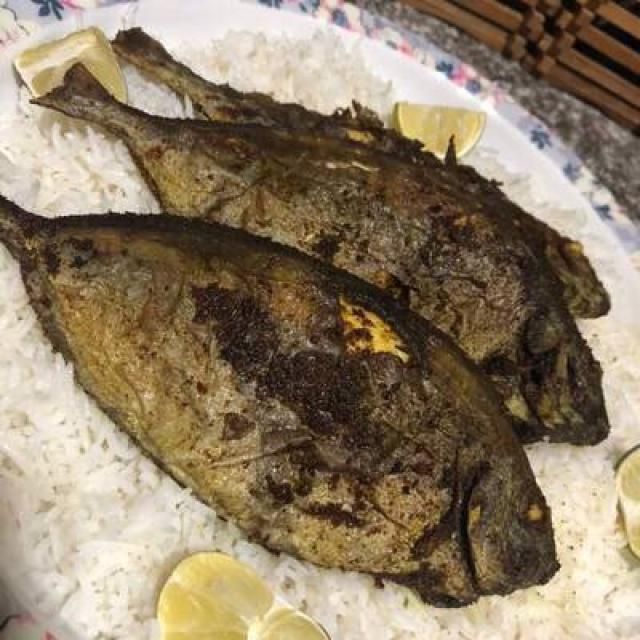Peixe: (21, 24, 613, 448), (0, 168, 562, 608)
